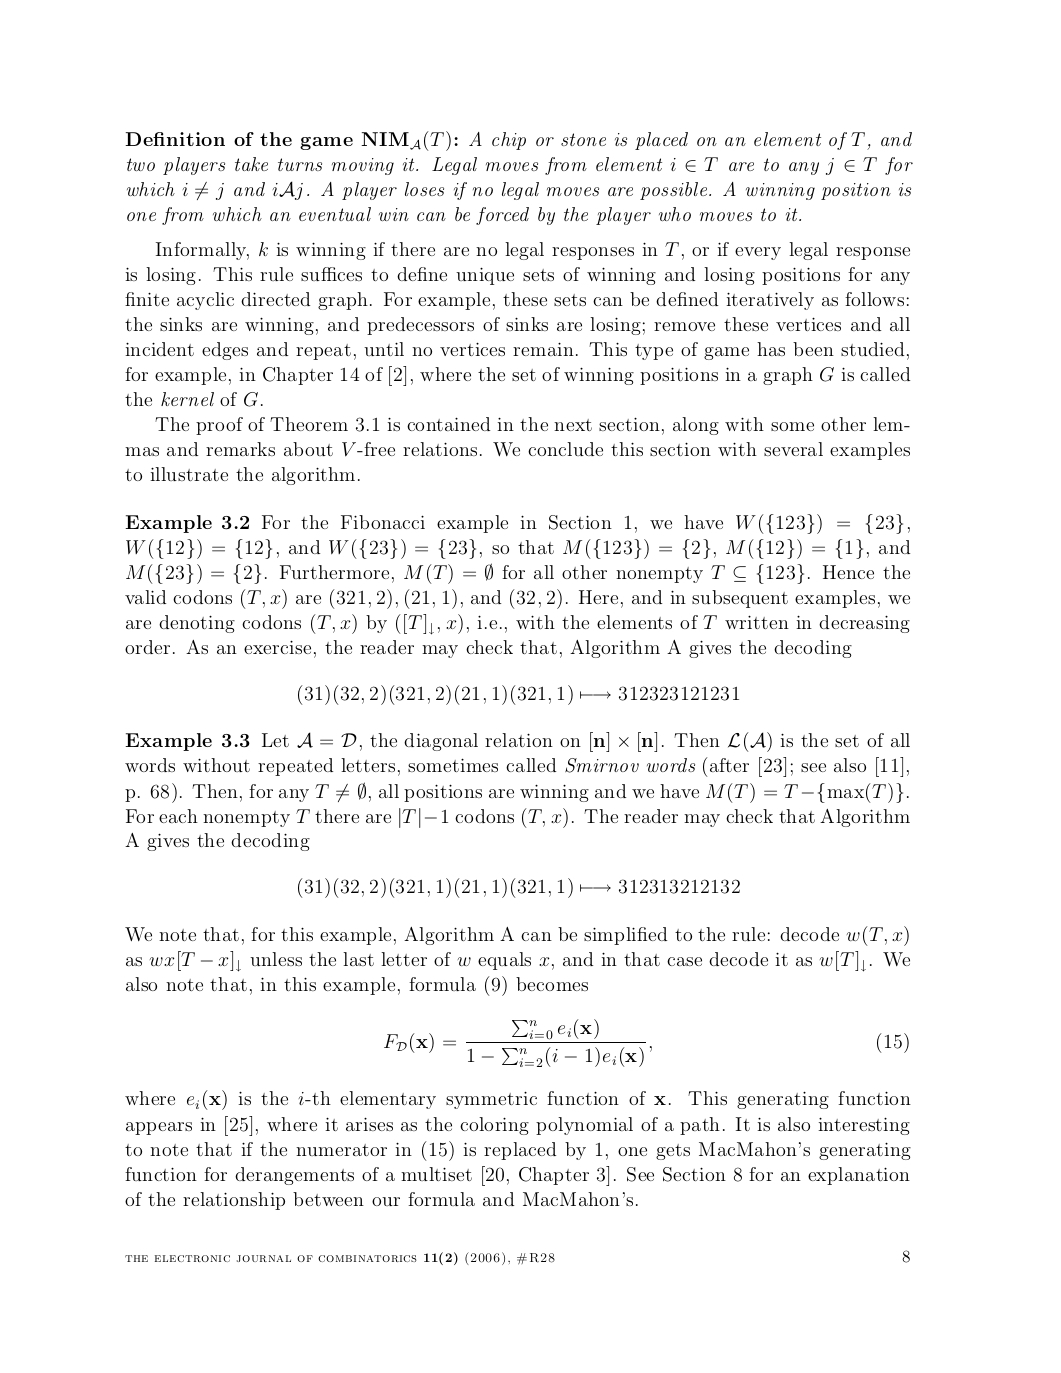formula: (385, 1017, 908, 1067), (298, 684, 739, 705), (298, 877, 739, 898)
